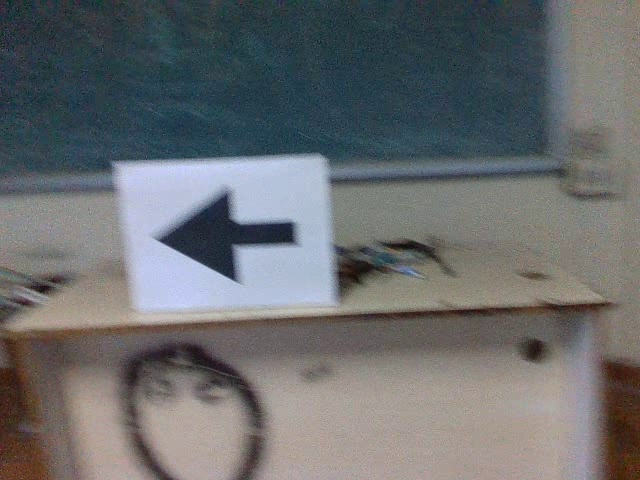Left: (144, 180, 304, 294)
